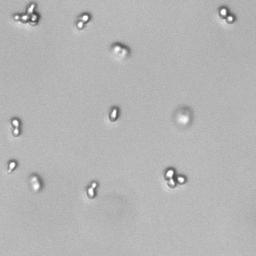budding: (217, 3, 239, 25), (72, 11, 94, 33), (8, 116, 23, 140), (4, 153, 19, 177), (85, 176, 100, 200), (106, 102, 121, 126)
cluster: (10, 1, 43, 25), (160, 165, 193, 189)
